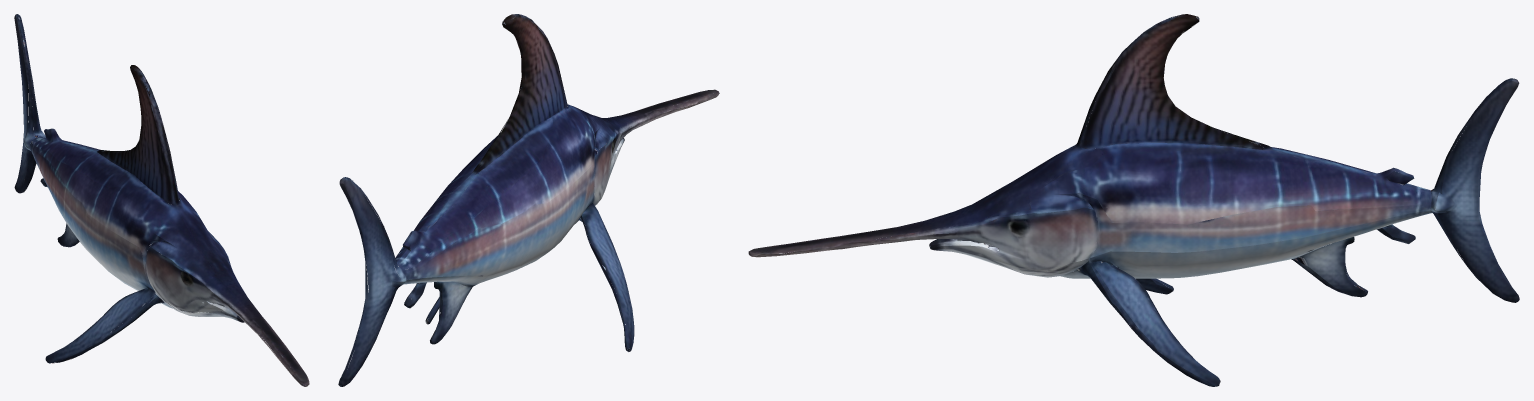
File: agulhao.glb
The picture shows the model from 3 angles, left to right: view 1: azimuth 30°, elevation 25°; view 2: azimuth 150°, elevation 25°; view 3: azimuth 270°, elevation 25°; orthographic projection. The views are drawn at different scales.
Visible parts, largest first — view 1: geometry_0; view 2: geometry_0; view 3: geometry_0.
Part boxes in pixels (x1,y1,x2,y2): geometry_0: (14, 14, 309, 386); geometry_0: (338, 14, 719, 386); geometry_0: (748, 14, 1519, 386).
Size of the model in its own units: 0.7395 by 1.21 by 2.5.
1 material, 1 textured.
